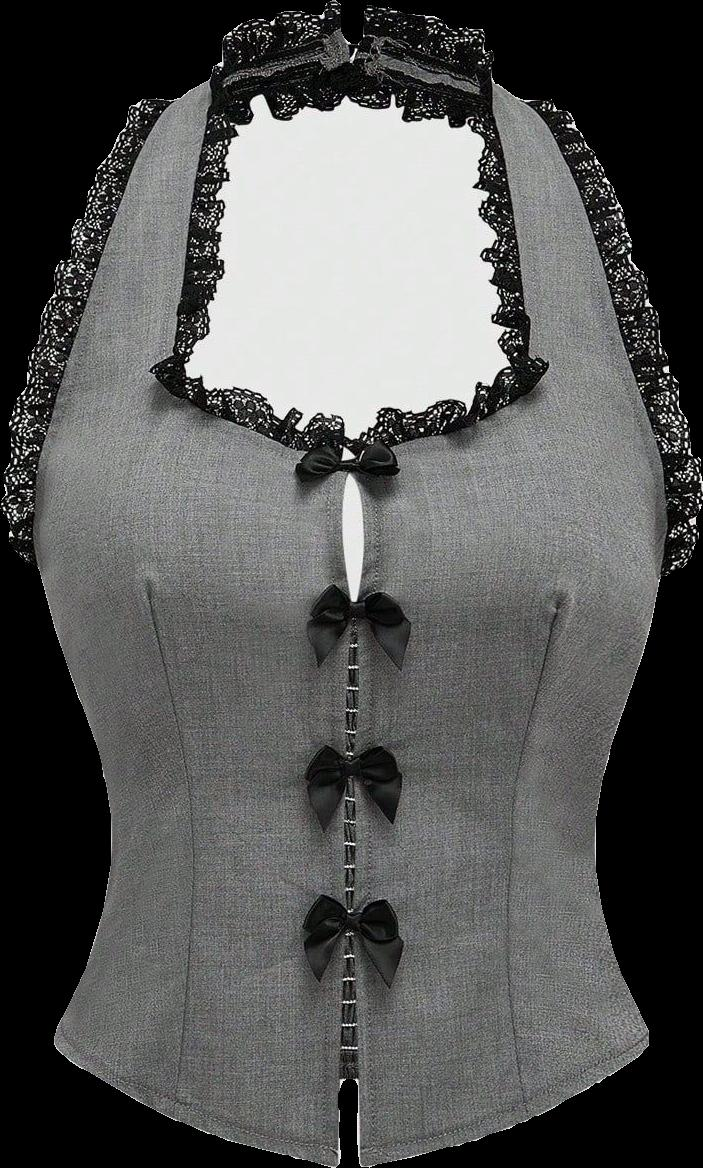Bodice: (3, 5, 699, 1167)
Neckline: (168, 29, 533, 463)
Waistline: (49, 1033, 652, 1167)
